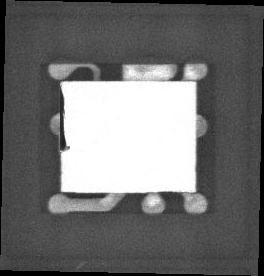DIE_BROKEN: (57, 85, 72, 152)
